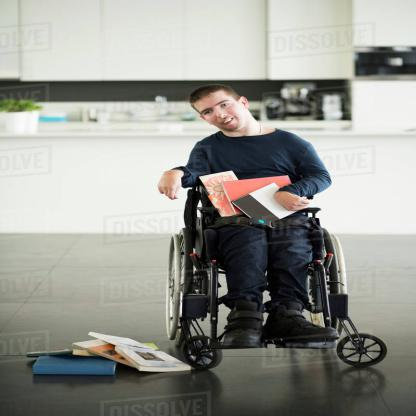wheelchair: (150, 81, 390, 372)
